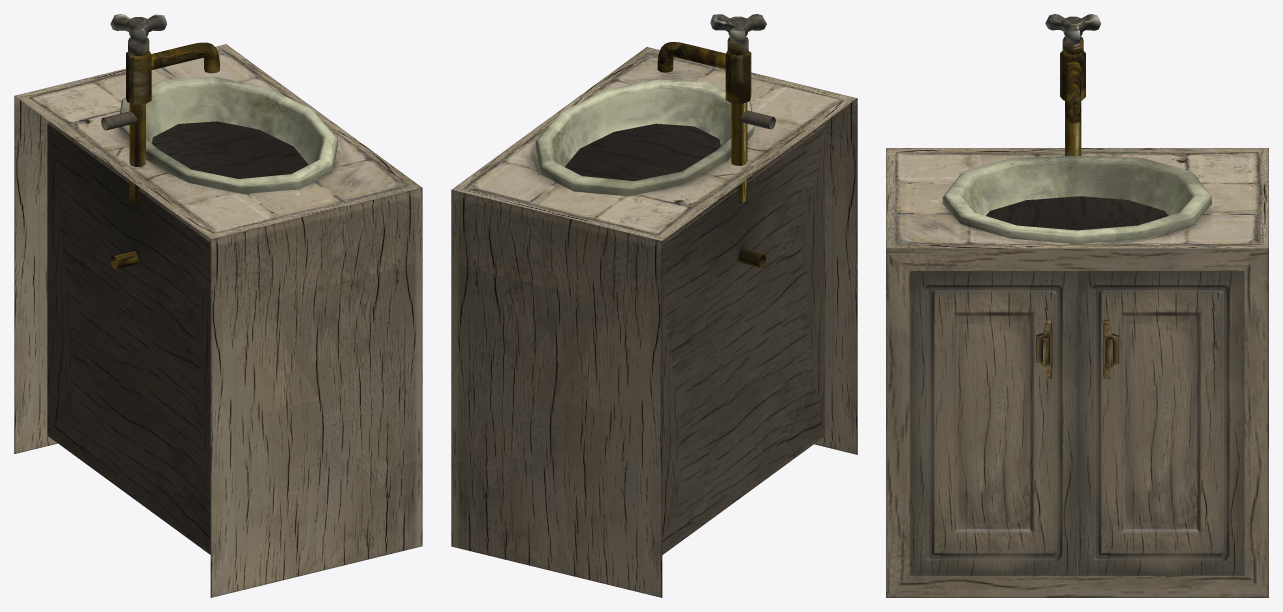
File: toiletSink.fbx
3 renders of one model, left to right at view 1: azimuth 30°, elevation 25°; view 2: azimuth 150°, elevation 25°; view 3: azimuth 270°, elevation 25°, orthographic. The views are drawn at different scales.
Parts seen in each view (by area): view 1: meuble; view 2: meuble; view 3: meuble, porte_droite, porte_gauche.
Part boxes in pixels (box(x1,y1,x2,y2)): meuble: box(14, 14, 422, 597); meuble: box(451, 14, 857, 597); meuble: box(886, 14, 1268, 597); porte_droite: box(1077, 271, 1244, 575); porte_gauche: box(910, 271, 1077, 575).
Bounding box in the file's own units: 55.9 × 116 × 82.22.
